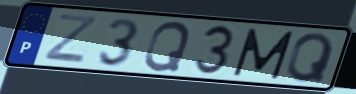3: (190, 23, 238, 78), (96, 18, 143, 68)
M: (230, 26, 297, 81)
Q: (284, 32, 337, 84), (142, 19, 193, 73)
Z: (41, 12, 100, 65)
